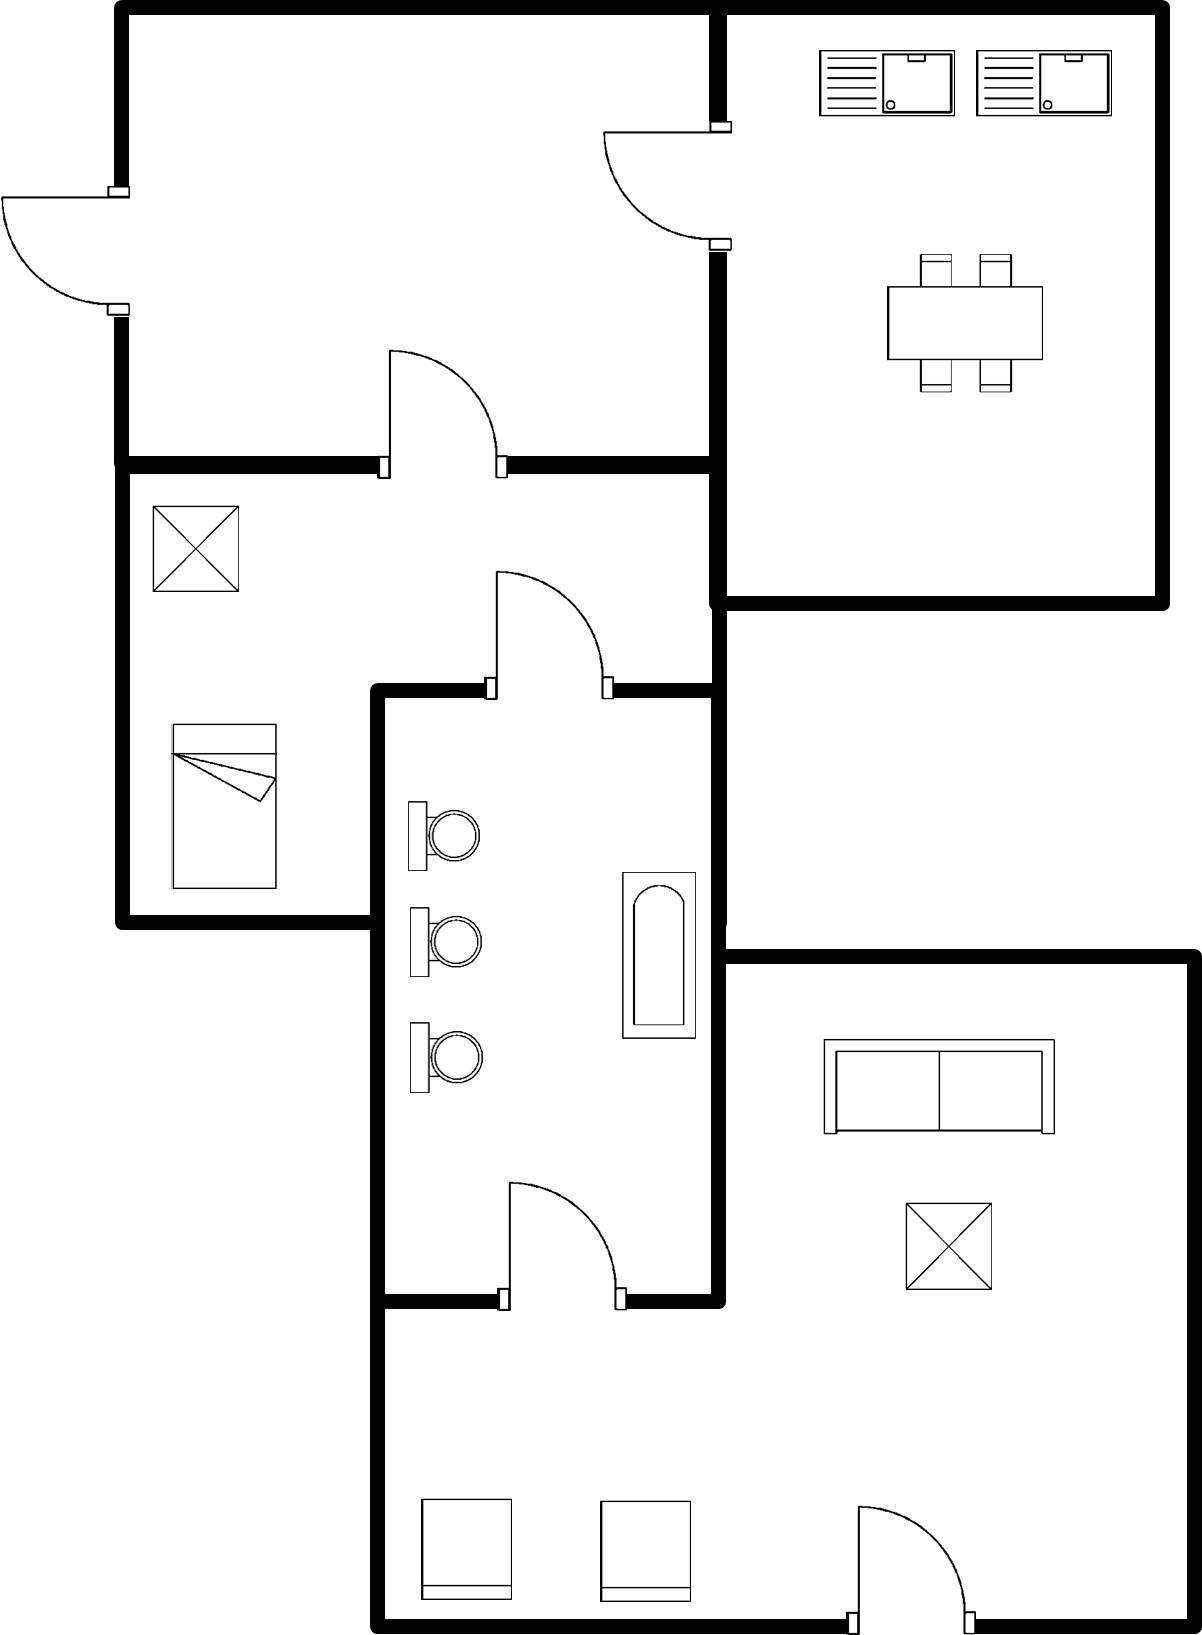bed: (156, 713, 294, 903)
dining_table: (875, 235, 1053, 402)
sink: (803, 41, 961, 135), (968, 37, 1122, 132)
sofa: (810, 1019, 1073, 1145)
toilet: (397, 1010, 500, 1107), (397, 786, 491, 884), (399, 897, 492, 989)
tub: (603, 859, 708, 1049)
